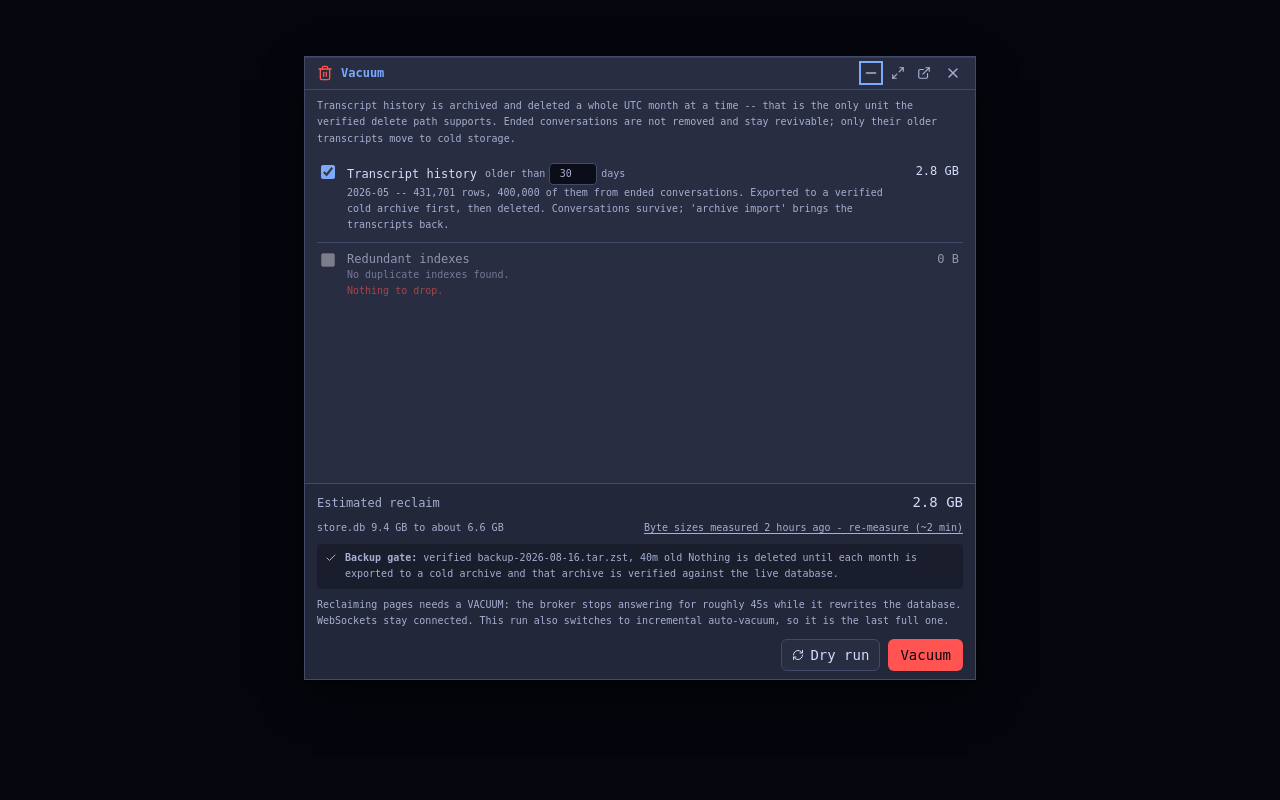
Test: steps that arrive while parked are still there on restore
Note: Start a run, then walk away from it.
Step 1. Click the button "Dry run" → (831, 655), box [781,639,880,671]
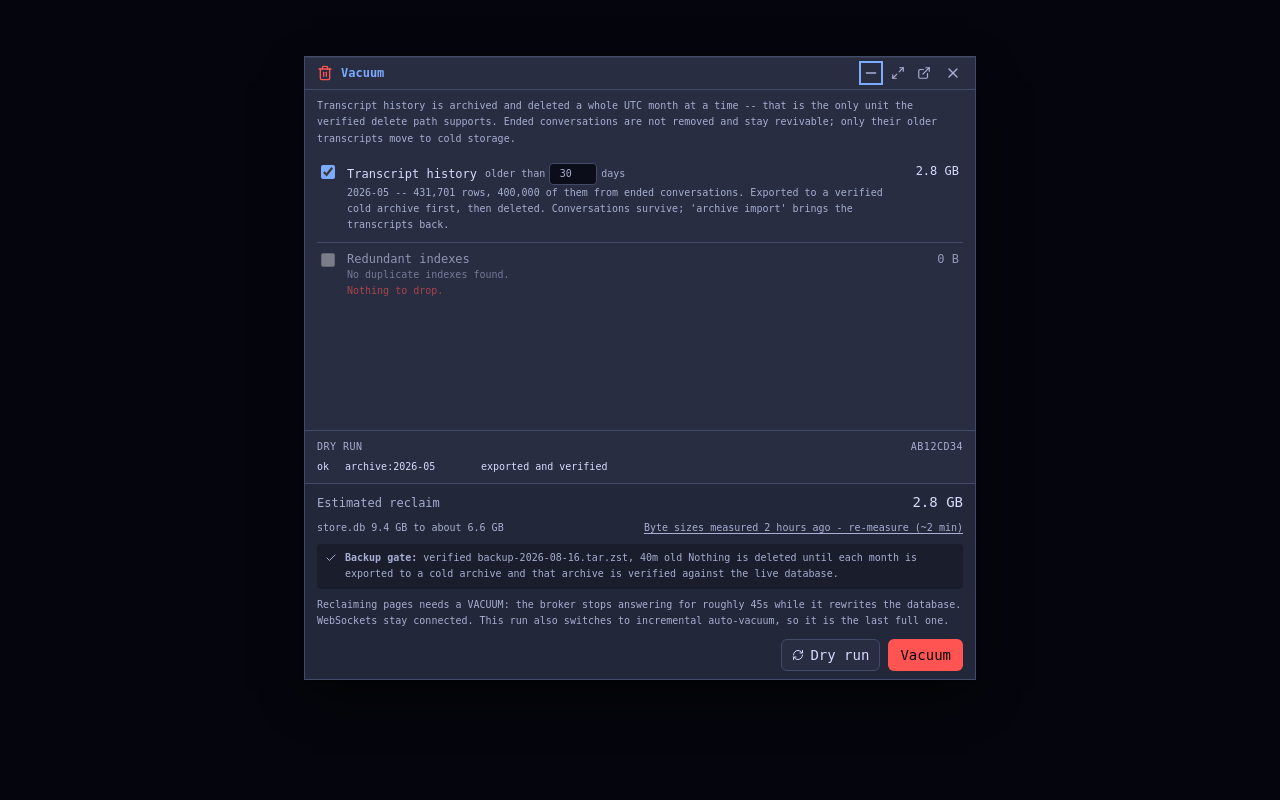
Expected: the text "archive:2026-05" is shown, [345,461,435,472]
